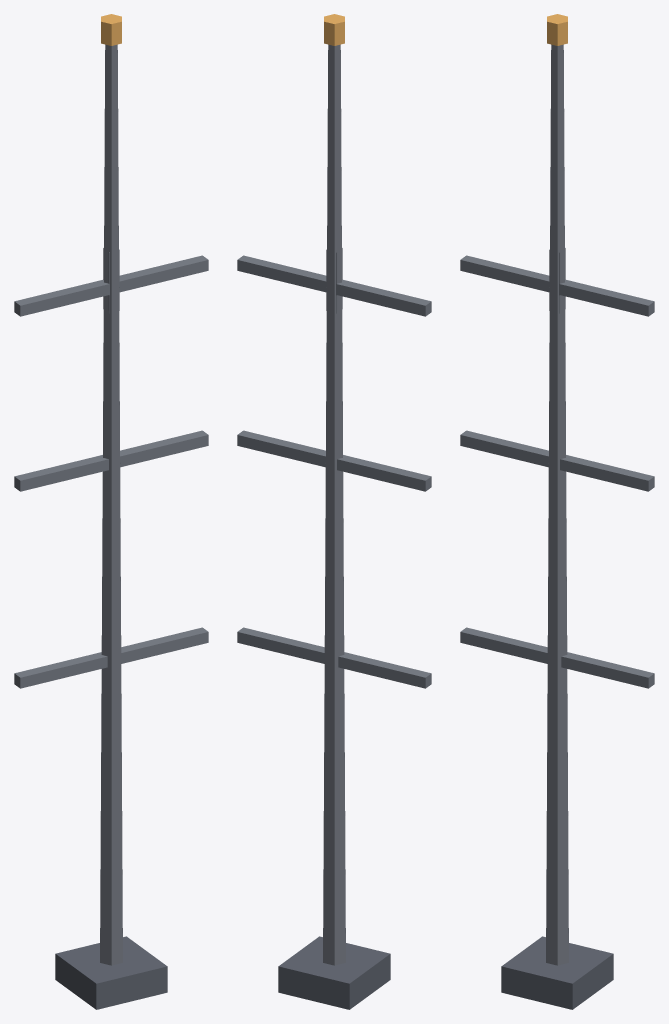
Rendered from antenna_mast.glb.
3 views of the same model, side by side, from view 1: azimuth 30°, elevation 25°; view 2: azimuth 150°, elevation 25°; view 3: azimuth 330°, elevation 25° (orthographic).
Visible parts, largest first — view 1: antenna_mast; view 2: antenna_mast; view 3: antenna_mast.
Boxes of the visible parts, x1=… form: antenna_mast: x1=14, y1=14, x2=208, y2=1009; antenna_mast: x1=237, y1=14, x2=431, y2=1009; antenna_mast: x1=460, y1=14, x2=654, y2=1009.
Bounding box in the file's own units: 0.9 × 4.42 × 0.34.
